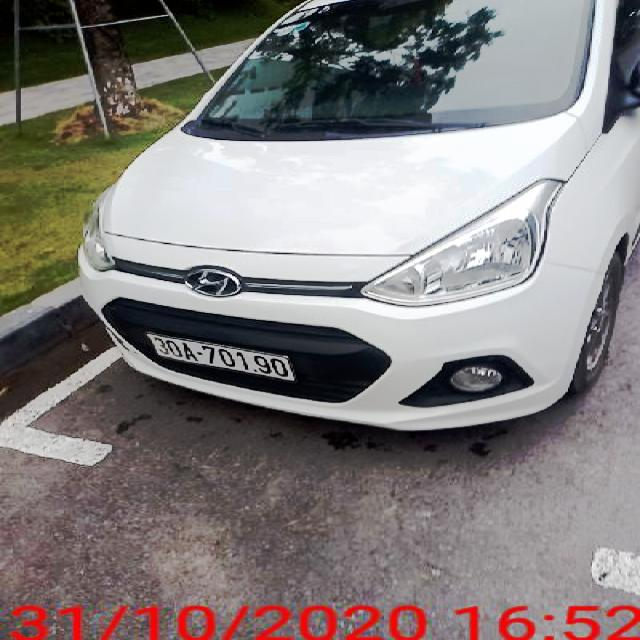license_plate: (148, 335, 298, 381)
